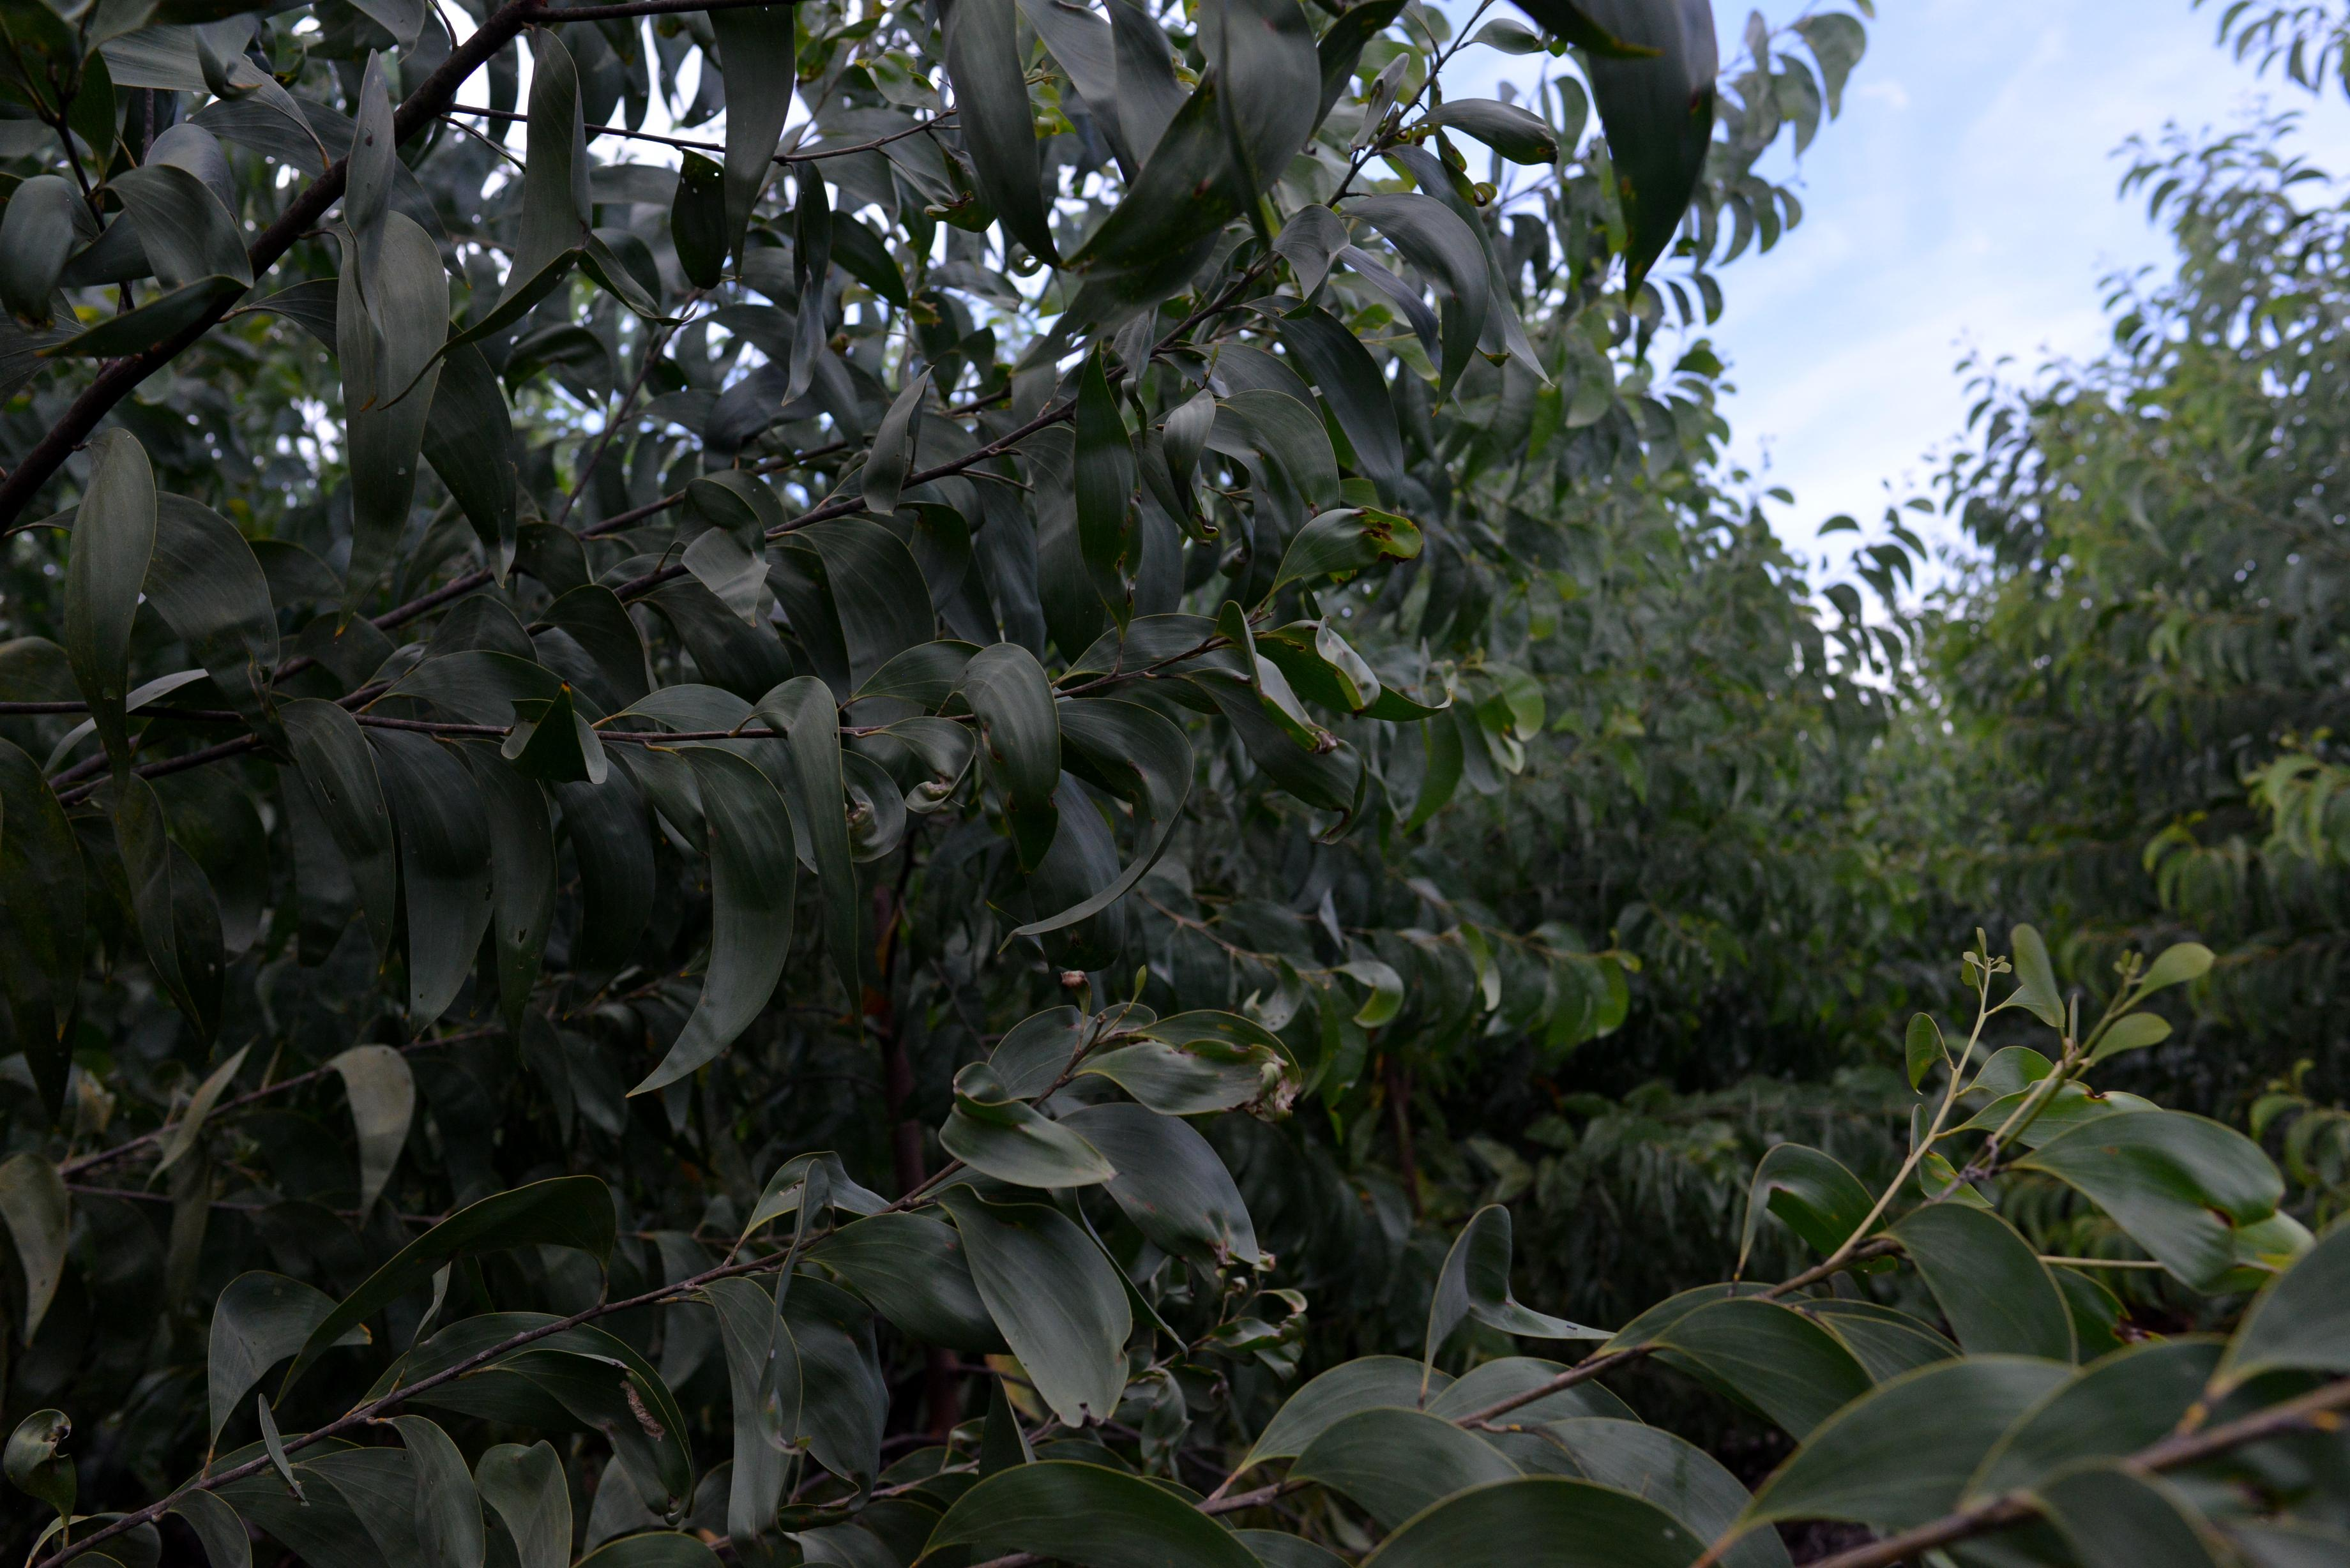Pasalora: (2002, 1083, 2310, 1286), (1409, 1192, 1603, 1360), (1179, 604, 1393, 745), (927, 1038, 1113, 1192), (933, 639, 1069, 845), (1134, 1235, 1304, 1386), (1087, 1003, 1297, 1123), (1269, 483, 1430, 618), (731, 1146, 892, 1255), (1258, 177, 1356, 308), (1335, 952, 1412, 1032)
